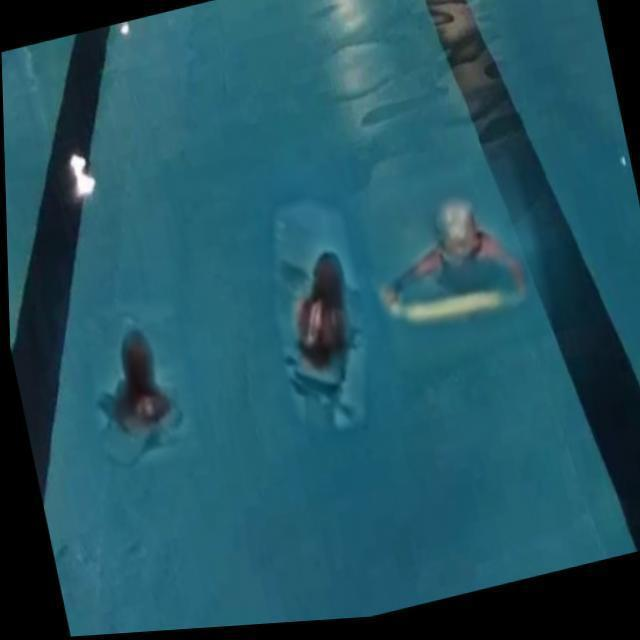swimming: (266, 231, 378, 422), (380, 204, 524, 323), (91, 305, 179, 445)
